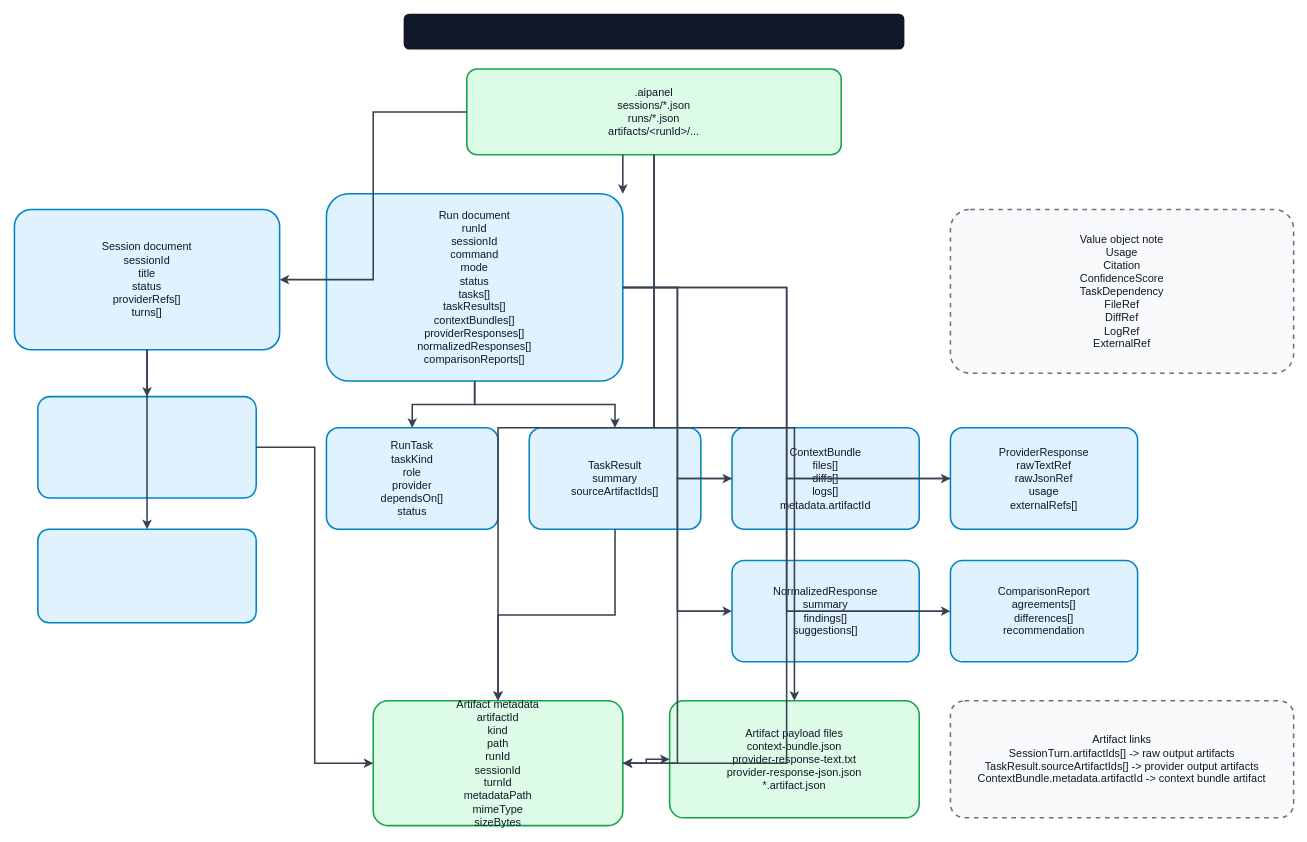
This 1307x842 diagram has some shape labels left out. Here are the shapes that lost their labels. From the top down, the box of each, then its label:
(403, 13, 904, 49): Persistence Model: .aipanel
(37, 395, 257, 498): SessionTurn turnId role content artifactIds[]
(37, 528, 257, 623): ProviderRef provider providerSessionId workingDirectory
